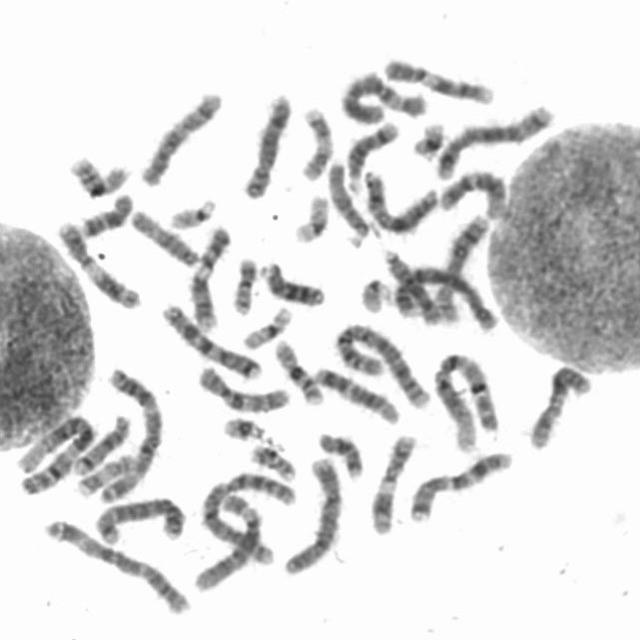A1: (428, 345, 502, 454), (11, 406, 99, 496)
A2: (192, 464, 298, 596), (328, 315, 434, 411)
A3: (39, 511, 196, 617), (96, 360, 167, 506)
B4: (386, 258, 502, 333), (278, 449, 344, 576)
B5: (430, 96, 558, 181), (89, 490, 189, 546)
C10: (138, 89, 222, 189), (190, 358, 292, 415)
C11: (50, 213, 145, 311), (366, 427, 420, 536)
C12: (308, 358, 404, 426), (434, 163, 512, 220)
C6: (190, 484, 266, 594), (334, 65, 434, 124)
C7: (156, 296, 264, 380), (404, 444, 516, 524)
C8: (431, 207, 494, 326), (236, 87, 294, 200)
C9: (378, 50, 498, 106), (184, 219, 234, 332)
D13: (378, 241, 446, 327), (254, 254, 328, 308)
D14: (340, 113, 402, 194), (69, 407, 135, 477)
D15: (125, 202, 203, 268), (322, 156, 374, 248)
E16: (268, 332, 328, 407), (62, 147, 134, 199)
E17: (294, 99, 336, 183), (71, 447, 138, 498)
E18: (73, 187, 136, 238), (312, 425, 366, 480)
F19: (237, 299, 294, 351), (288, 188, 332, 244)
F20: (244, 437, 298, 483), (227, 250, 260, 316)
G21: (408, 114, 450, 161), (216, 409, 268, 443)
G22: (164, 191, 218, 230), (356, 270, 394, 315)
X: (523, 356, 596, 452), (358, 163, 442, 236)
